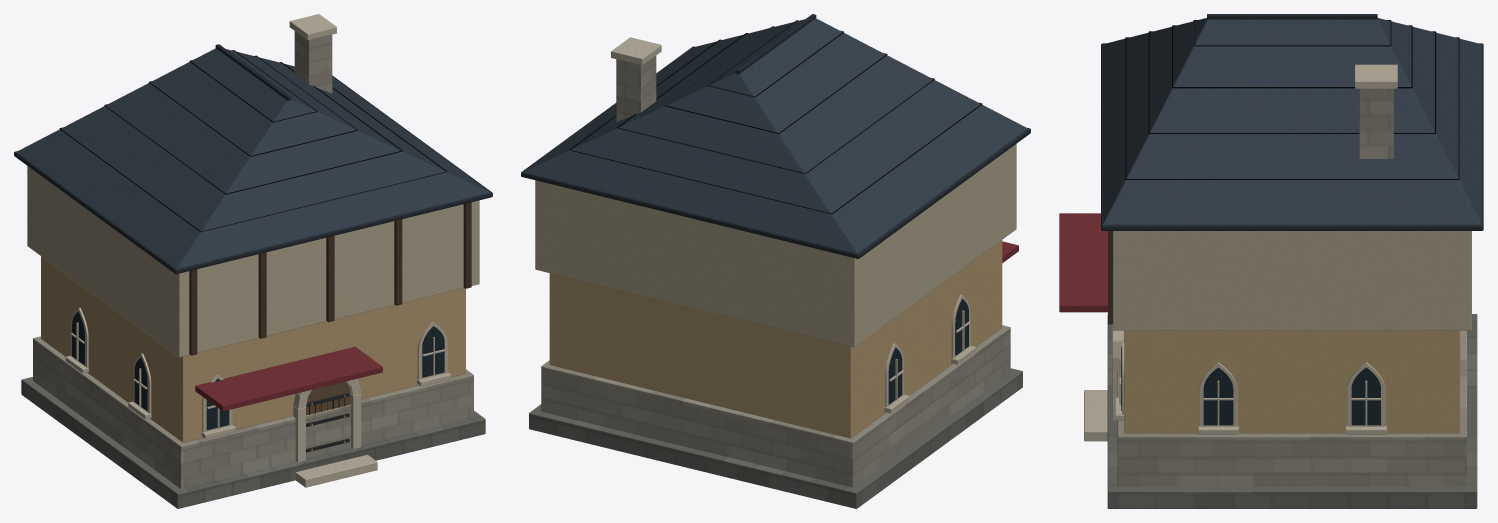
File: MerchantHouse.fbx
3 views of the same model, side by side, from view 1: azimuth 30°, elevation 25°; view 2: azimuth 150°, elevation 25°; view 3: azimuth 270°, elevation 25° (orthographic). The views are drawn at different scales.
Parts seen in each view (by area): view 1: MerchantHouse.001; view 2: MerchantHouse.001; view 3: MerchantHouse.001.
Part boxes in pixels (x1,y1,x2,y2): MerchantHouse.001: [14, 14, 492, 508]; MerchantHouse.001: [521, 14, 1030, 508]; MerchantHouse.001: [1059, 14, 1483, 508].
Size of the model in its own units: 10.31 by 10.66 by 10.11.
